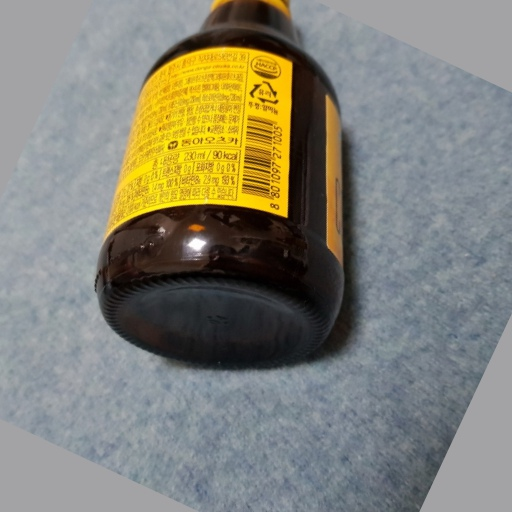Glass_3: (91, 4, 349, 368)
